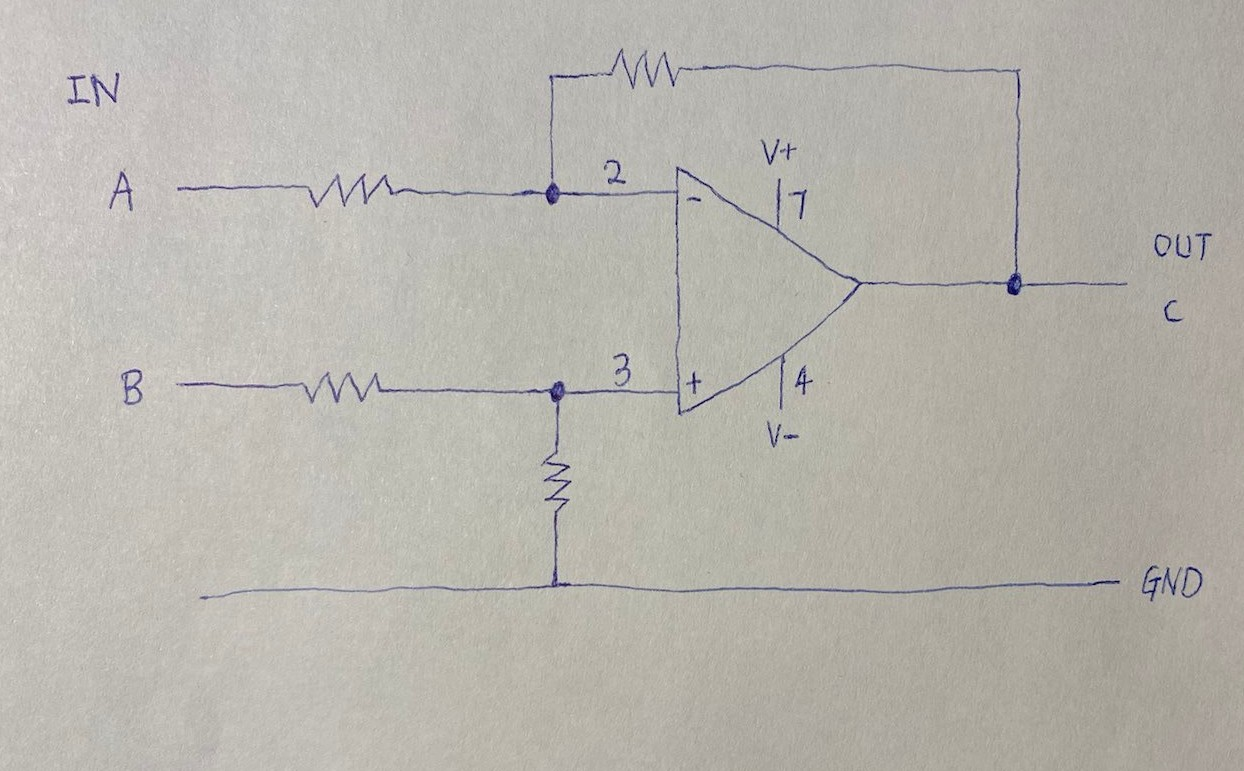junction: (993, 262, 1039, 306), (533, 564, 580, 606), (535, 172, 576, 214), (540, 371, 576, 416), (1001, 54, 1037, 88), (536, 61, 567, 95)
operational_amplifier: (662, 160, 876, 448)
resistor: (289, 166, 408, 215), (595, 40, 695, 94), (286, 365, 391, 416), (535, 443, 582, 524)
terminal: (165, 369, 218, 399), (186, 582, 238, 612), (1096, 272, 1148, 296), (164, 176, 209, 199), (1095, 569, 1135, 593)
text: (1139, 558, 1207, 607), (64, 64, 123, 114), (1152, 225, 1215, 267), (751, 129, 800, 171), (107, 166, 137, 222), (114, 365, 150, 410), (603, 346, 638, 388), (763, 416, 804, 451), (600, 153, 635, 189), (786, 186, 817, 225), (791, 362, 820, 397), (1158, 295, 1187, 328), (682, 366, 708, 399), (684, 190, 706, 214)
